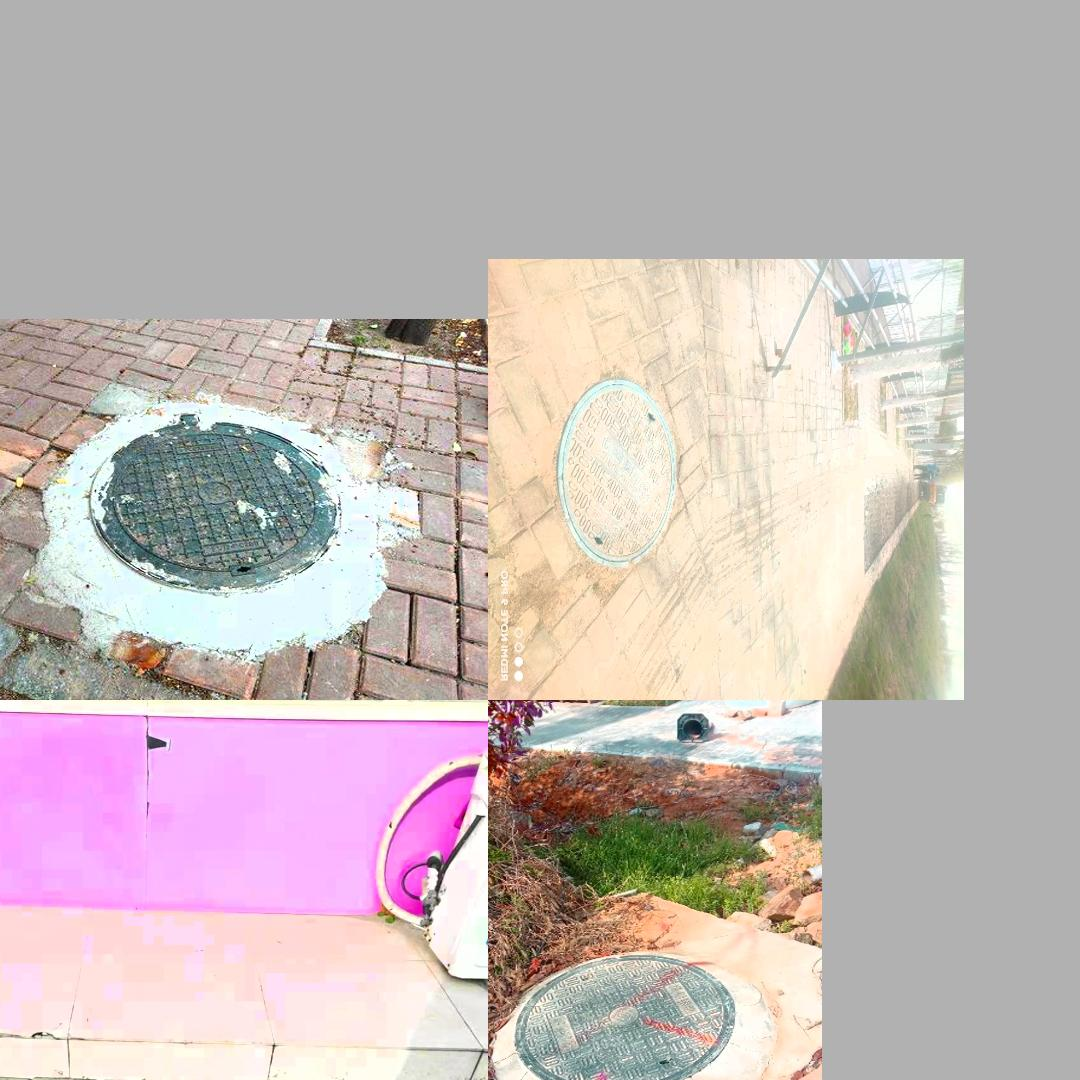good: (48, 399, 384, 647), (513, 952, 735, 1080), (556, 378, 675, 567)
